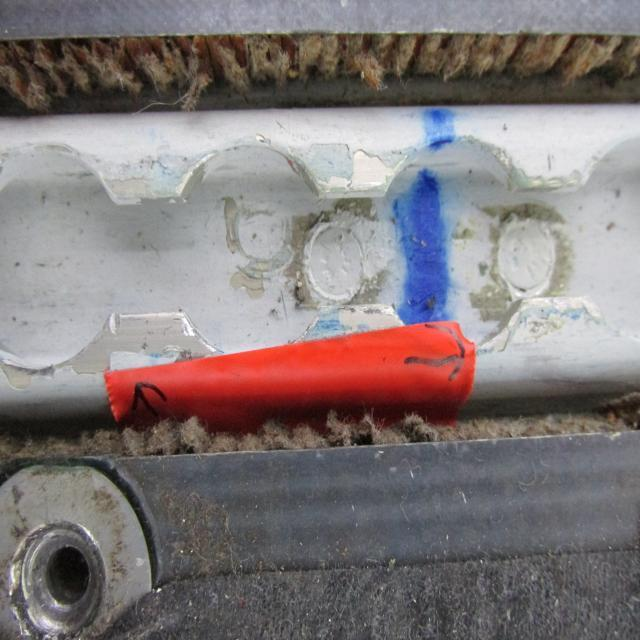Missing Fastener: (0, 448, 176, 640)
